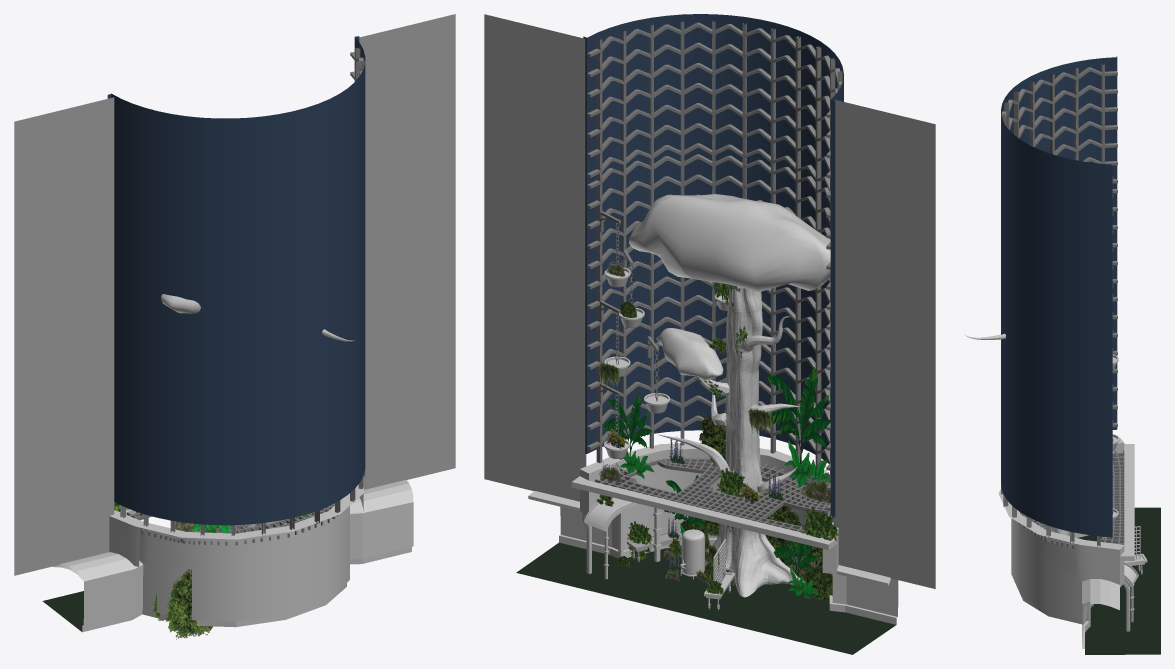
Rendered from Scene_Serre.fbx.
3 renders of one model, left to right at view 1: azimuth 30°, elevation 25°; view 2: azimuth 150°, elevation 25°; view 3: azimuth 270°, elevation 25°, orthographic. The views are drawn at different scales.
Visible parts, largest first — view 1: Vitre, mur1, mur, Base_serre, Buisson7, Grille_etage, Grille_fenetre; view 2: Vitre, mur, mur1, Base_serre, Grille_fenetre, Grille_fenetre1, feuillage, Tree, Grille_etage, BananaTree2, feuillage1, BananaTree1 (+7 smaller); view 3: Vitre, Base_serre, Grille_fenetre1, Grille_etage, Grille_fenetre, Toit_avant, Pilier_arriere.
Boxes of the visible parts, box(x1,y1,x2,y2) form: Vitre: box(107, 36, 365, 525); mur1: box(14, 97, 114, 575); mur: box(356, 14, 455, 489); Base_serre: box(42, 476, 413, 632); Buisson7: box(164, 569, 212, 639); Grille_etage: box(127, 499, 341, 545); Grille_fenetre: box(120, 470, 365, 536); Vitre: box(583, 14, 843, 516); mur: box(484, 14, 586, 501); mur1: box(833, 99, 935, 588); Base_serre: box(516, 442, 898, 654); Grille_fenetre: box(587, 154, 833, 522); Grille_fenetre1: box(587, 20, 842, 238); feuillage: box(629, 194, 830, 292); Tree: box(657, 285, 804, 597); Grille_etage: box(595, 456, 830, 535); BananaTree2: box(767, 367, 830, 487); feuillage1: box(656, 328, 723, 380); BananaTree1: box(603, 394, 653, 478); Vitre: box(1001, 56, 1117, 538); Base_serre: box(998, 437, 1160, 654); Grille_fenetre1: box(1001, 63, 1117, 287); Grille_etage: box(1019, 450, 1124, 548); Grille_fenetre: box(1001, 189, 1117, 548); Toit_avant: box(1124, 562, 1138, 622); Pilier_arriere: box(1086, 581, 1130, 631).
Bounding box in the file's own units: 297 × 343 × 125.
